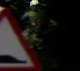Speed Breaker ahead: (0, 6, 47, 70)
